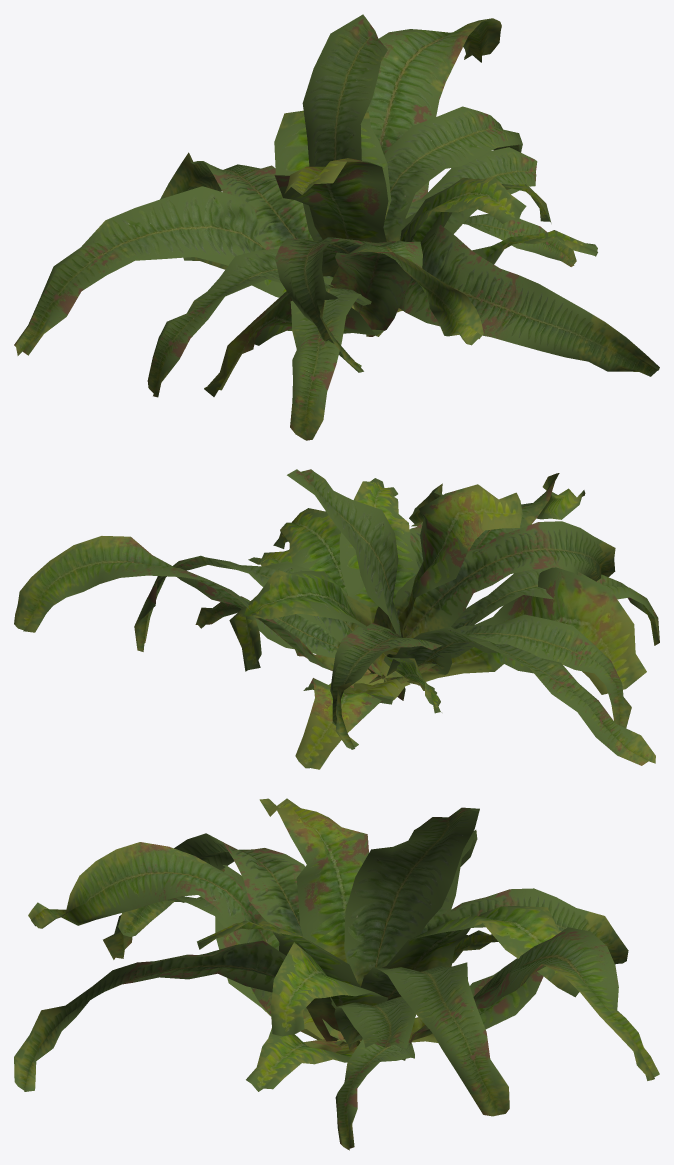
Rendered from felce.glb.
3 renders of one model, top to bottom at view 1: azimuth 30°, elevation 25°; view 2: azimuth 150°, elevation 25°; view 3: azimuth 270°, elevation 25°, orthographic. The views are drawn at different scales.
Visible parts, largest first — view 1: fern_02_b; view 2: fern_02_b; view 3: fern_02_b.
Part boxes in pixels (x1,y1,x2,y2): fern_02_b: (14, 14, 659, 440); fern_02_b: (14, 469, 659, 769); fern_02_b: (14, 798, 659, 1150).
Bounding box in the file's own units: 0.9897 × 0.4277 × 0.8937.
Materials: 1 (1 with a texture image).
